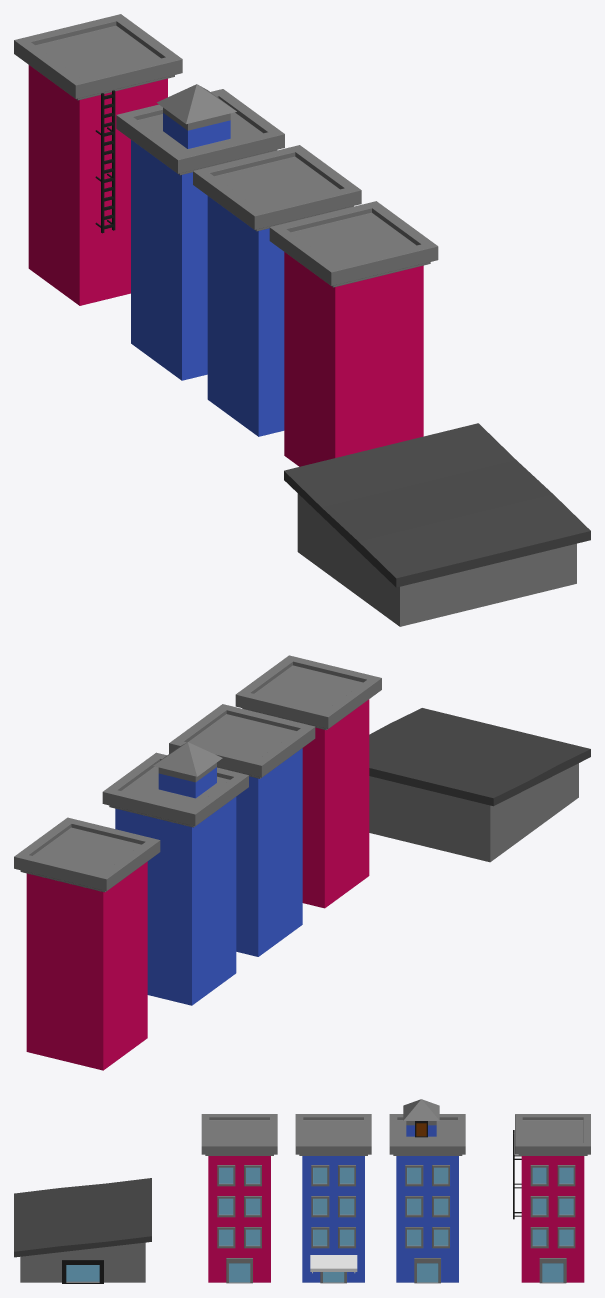
Rendered from Building_LowPoly.fbx.
The picture shows the model from 3 angles, top to bottom: view 1: azimuth 30°, elevation 25°; view 2: azimuth 150°, elevation 25°; view 3: azimuth 270°, elevation 25°; orthographic projection. The views are drawn at different scales.
Parts seen in each view (by area): view 1: Large_Building, Red_Building, Red_Building_2, Blue_Building_2, Blue_Building, Ladder; view 2: Red_Building_2, Large_Building, Blue_Building_2, Red_Building, Blue_Building; view 3: Large_Building, Blue_Building_2, Red_Building_2, Red_Building, Blue_Building, Awning, Ladder.
Boxes of the visible parts, x1=… form: Large_Building: x1=284, y1=423, x2=590, y2=626; Red_Building: x1=269, y1=201, x2=438, y2=466; Red_Building_2: x1=14, y1=14, x2=182, y2=305; Blue_Building_2: x1=116, y1=84, x2=284, y2=380; Blue_Building: x1=193, y1=145, x2=361, y2=436; Ladder: x1=95, y1=90, x2=115, y2=233; Red_Building_2: x1=14, y1=817, x2=160, y2=1070; Large_Building: x1=369, y1=708, x2=590, y2=862; Blue_Building_2: x1=102, y1=742, x2=248, y2=1005; Red_Building: x1=235, y1=655, x2=381, y2=908; Blue_Building: x1=169, y1=704, x2=315, y2=956; Large_Building: x1=14, y1=1178, x2=151, y2=1283; Blue_Building_2: x1=389, y1=1099, x2=465, y2=1283; Red_Building_2: x1=515, y1=1114, x2=590, y2=1283; Red_Building: x1=201, y1=1114, x2=277, y2=1283; Blue_Building: x1=295, y1=1114, x2=371, y2=1283; Awning: x1=310, y1=1255, x2=357, y2=1273; Ladder: x1=513, y1=1130, x2=521, y2=1219.
Size of the model in its own units: 488 by 590 by 1841.
